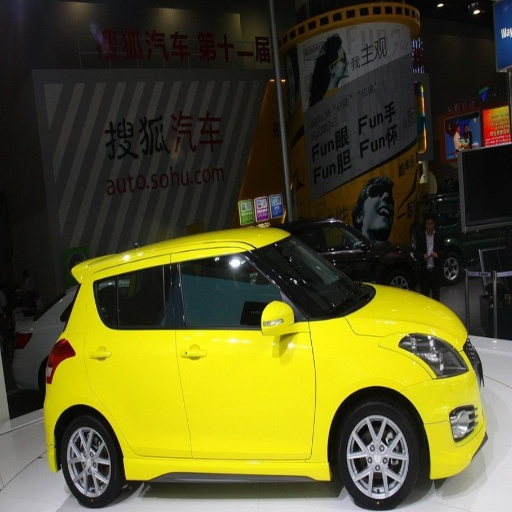back_right_door: (89, 258, 190, 457)
front_bumper: (423, 380, 481, 470)
front_right_door: (173, 252, 312, 457)
front_right_light: (400, 334, 452, 375)
